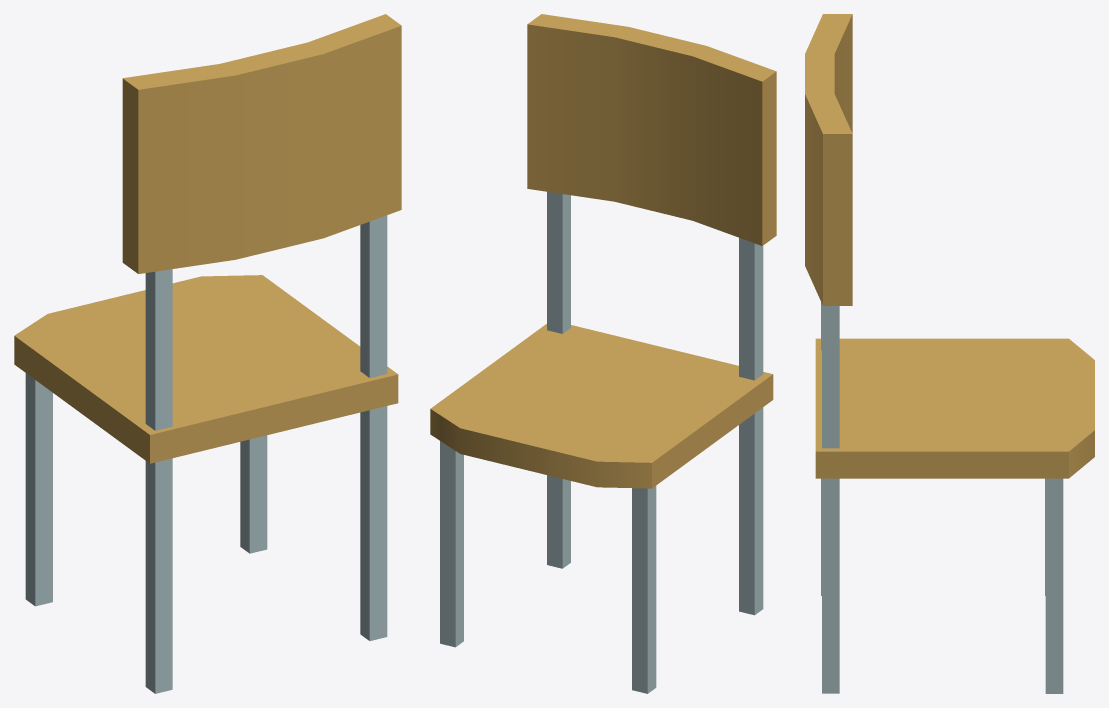
Rendered from Chaise.FBX.
3 renders of one model, left to right at view 1: azimuth 30°, elevation 25°; view 2: azimuth 150°, elevation 25°; view 3: azimuth 270°, elevation 25°, orthographic. The views are drawn at different scales.
Visible parts, largest first — view 1: Chaise; view 2: Chaise; view 3: Chaise.
Boxes of the visible parts, x1,y1,x2,y2 form: Chaise: (14,14,401,693); Chaise: (430,14,776,693); Chaise: (805,14,1094,693).
Bounding box in the file's own units: 0.4783 × 1.05 × 0.4889.
